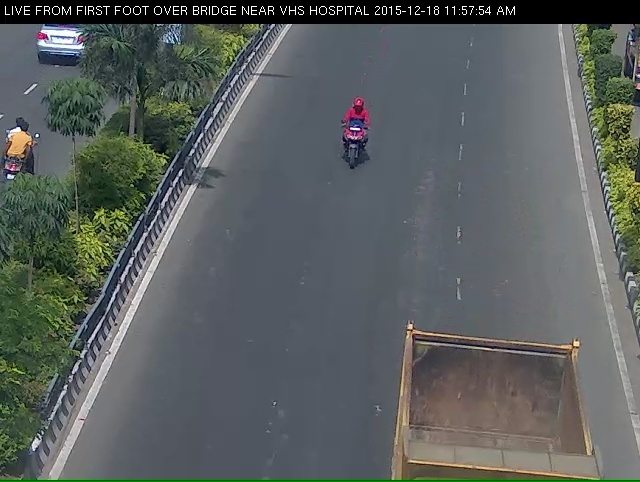Person: (330, 99, 372, 202)
